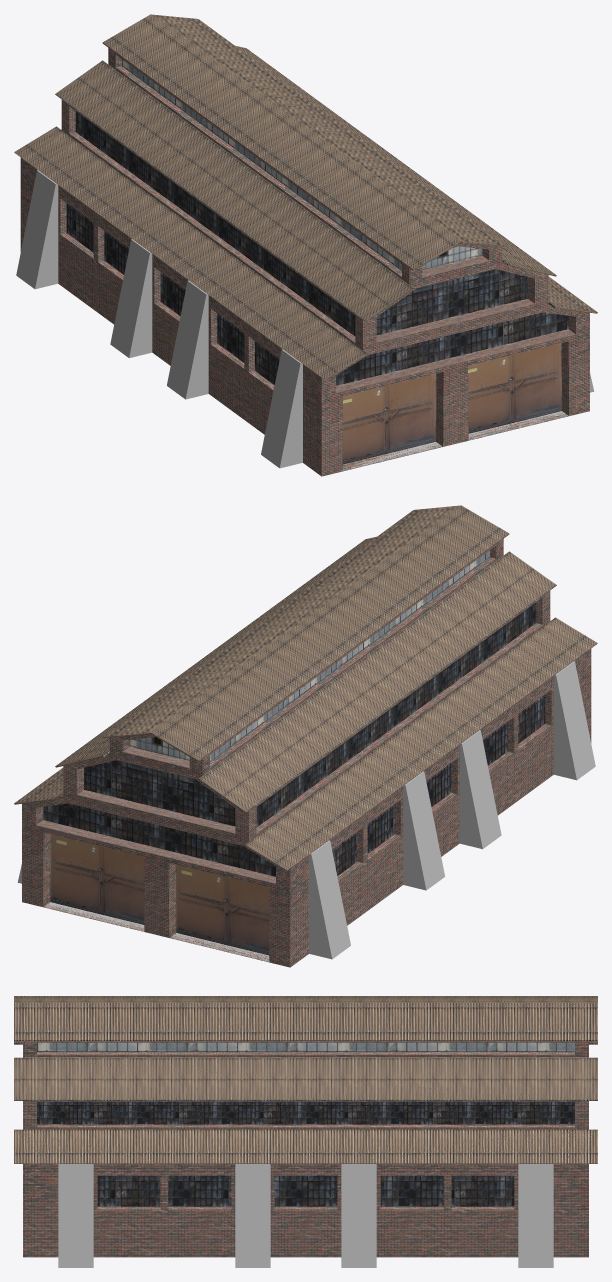
The model's file is t_hall_lod1.fbx.
3 renders of one model, top to bottom at view 1: azimuth 30°, elevation 25°; view 2: azimuth 150°, elevation 25°; view 3: azimuth 270°, elevation 25°, orthographic. The views are drawn at different scales.
Parts seen in each view (by area): view 1: Mesh Object; view 2: Mesh Object; view 3: Mesh Object.
Part boxes in pixels (x1=…): Mesh Object: x1=14, y1=14, x2=597, y2=476; Mesh Object: x1=14, y1=505, x2=597, y2=967; Mesh Object: x1=14, y1=996, x2=597, y2=1267.
Bounding box in the file's own units: 22.27 × 13.9 × 38.07.
